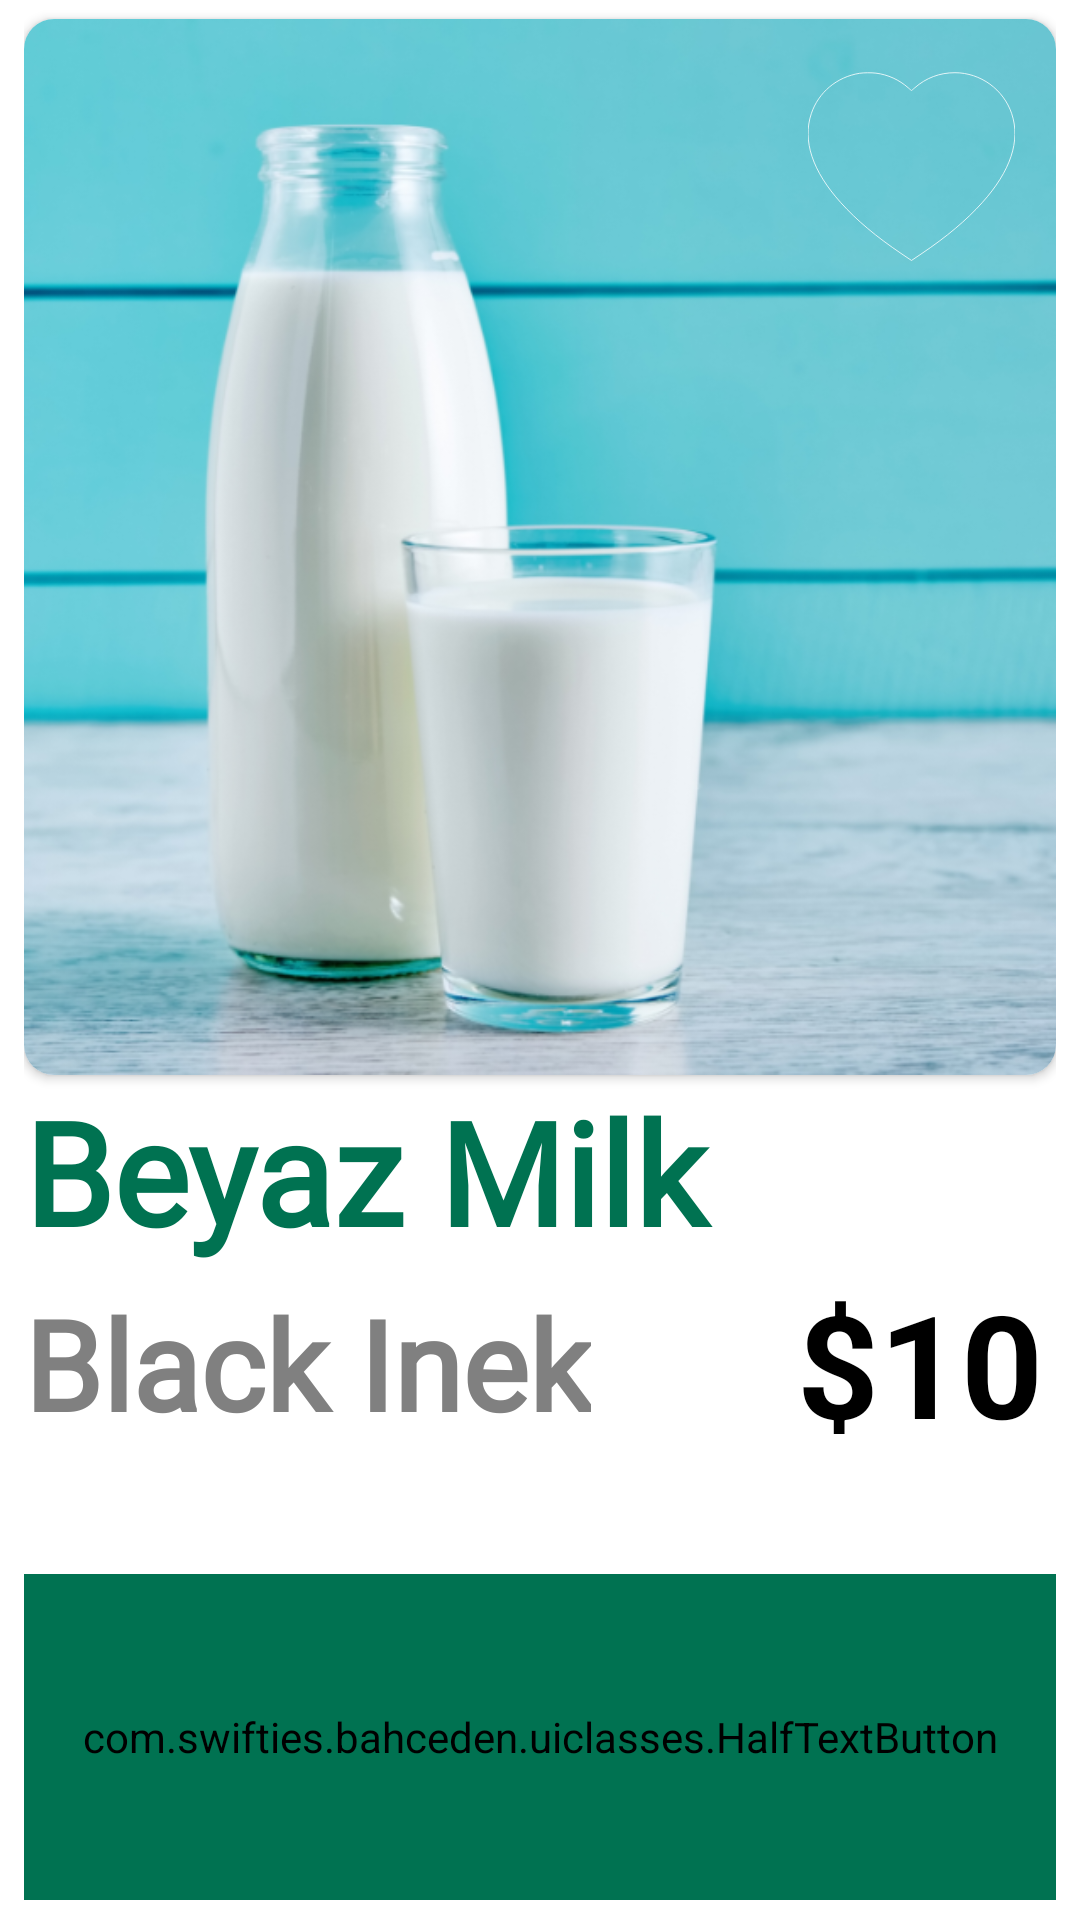

Icons on this 1080w x 1920h Android screen, each with its box as [x1=x1, y1=y1, x2=x2, y2=y2]:
unfavorite: [x1=808, y1=72, x2=1015, y2=261]
